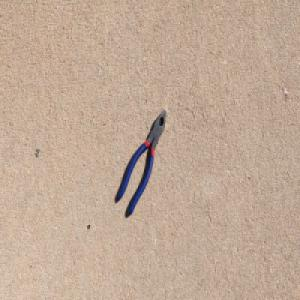Pliers: (116, 107, 168, 218)
